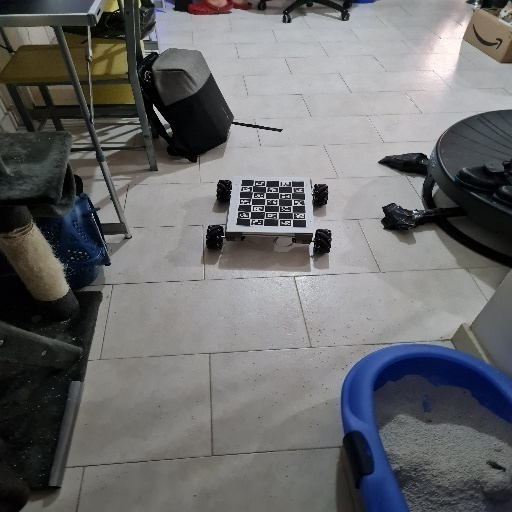Omniwheel: (206, 177, 332, 257)
